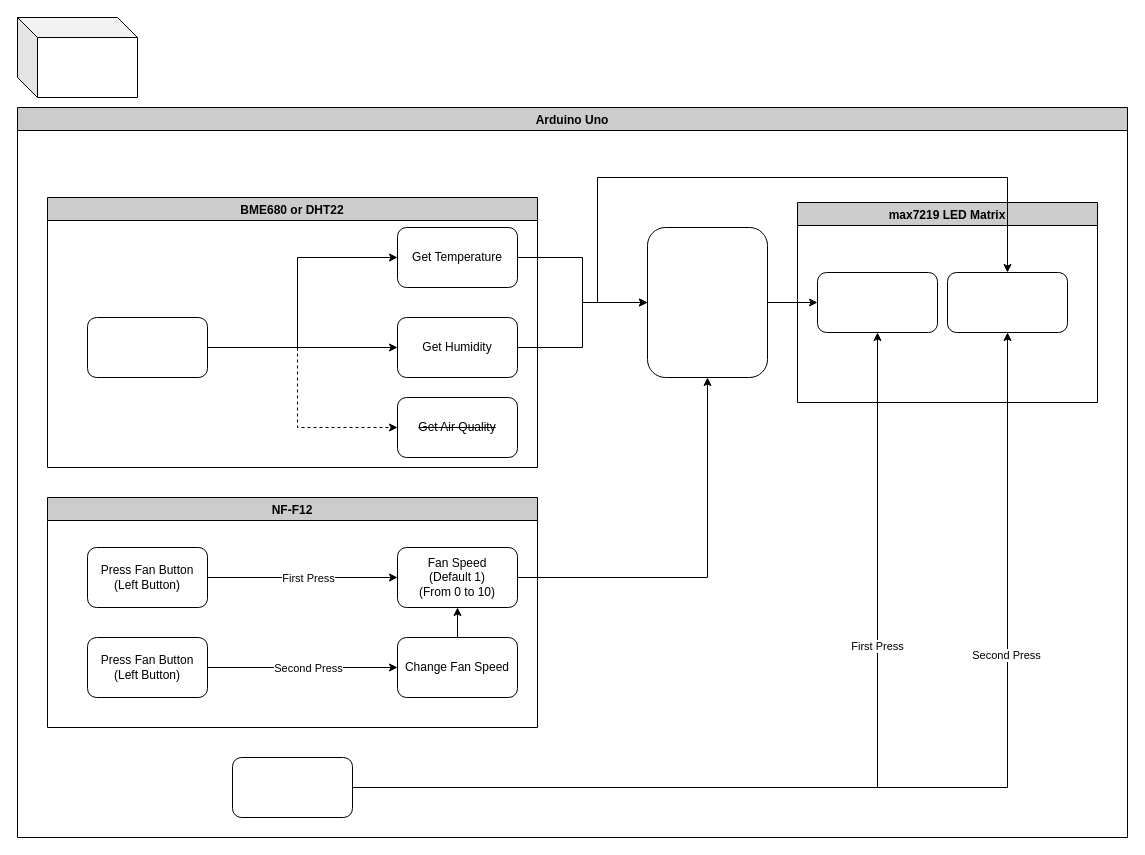
Image size: 1145x855. Some labels were removed from this diagram. The shapes that lost their labels are listed below. From the top down, each one's centre as x and y in pixels, then its label:
At (77,57): "ClothSense".
At (707,302): "Calculate Estimated Dry Time".
At (877,302): "Show Estimated Time".
At (1007,302): "Show Sensing Data".
At (147,347): "Sensing Environment".
At (292,787): "Press Show Data (Right Button)".
